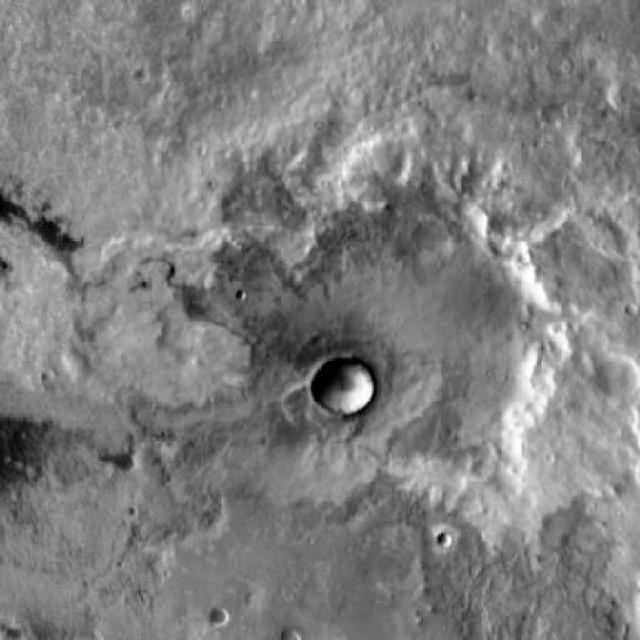crater: (204, 166, 558, 520), (0, 381, 172, 640), (314, 358, 374, 418), (595, 356, 640, 404), (210, 608, 232, 629), (428, 545, 443, 560)
